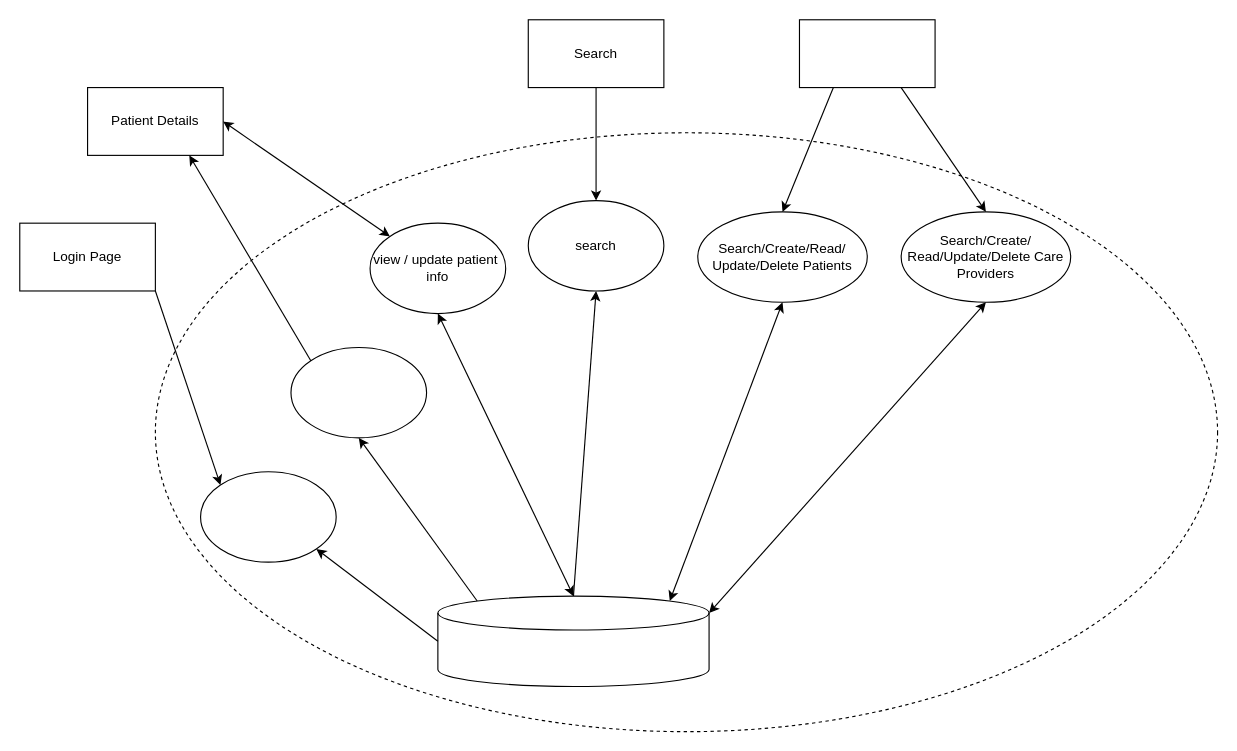
This 1237x751 diagram has some shape labels left out. The box of each missing label's shape, as (x1, y1, x2, y2) in pixels:
Database: (437, 595, 709, 686)
login: (199, 471, 336, 562)
SuperAdmin: (798, 19, 935, 88)
view patient details: (290, 346, 427, 438)
